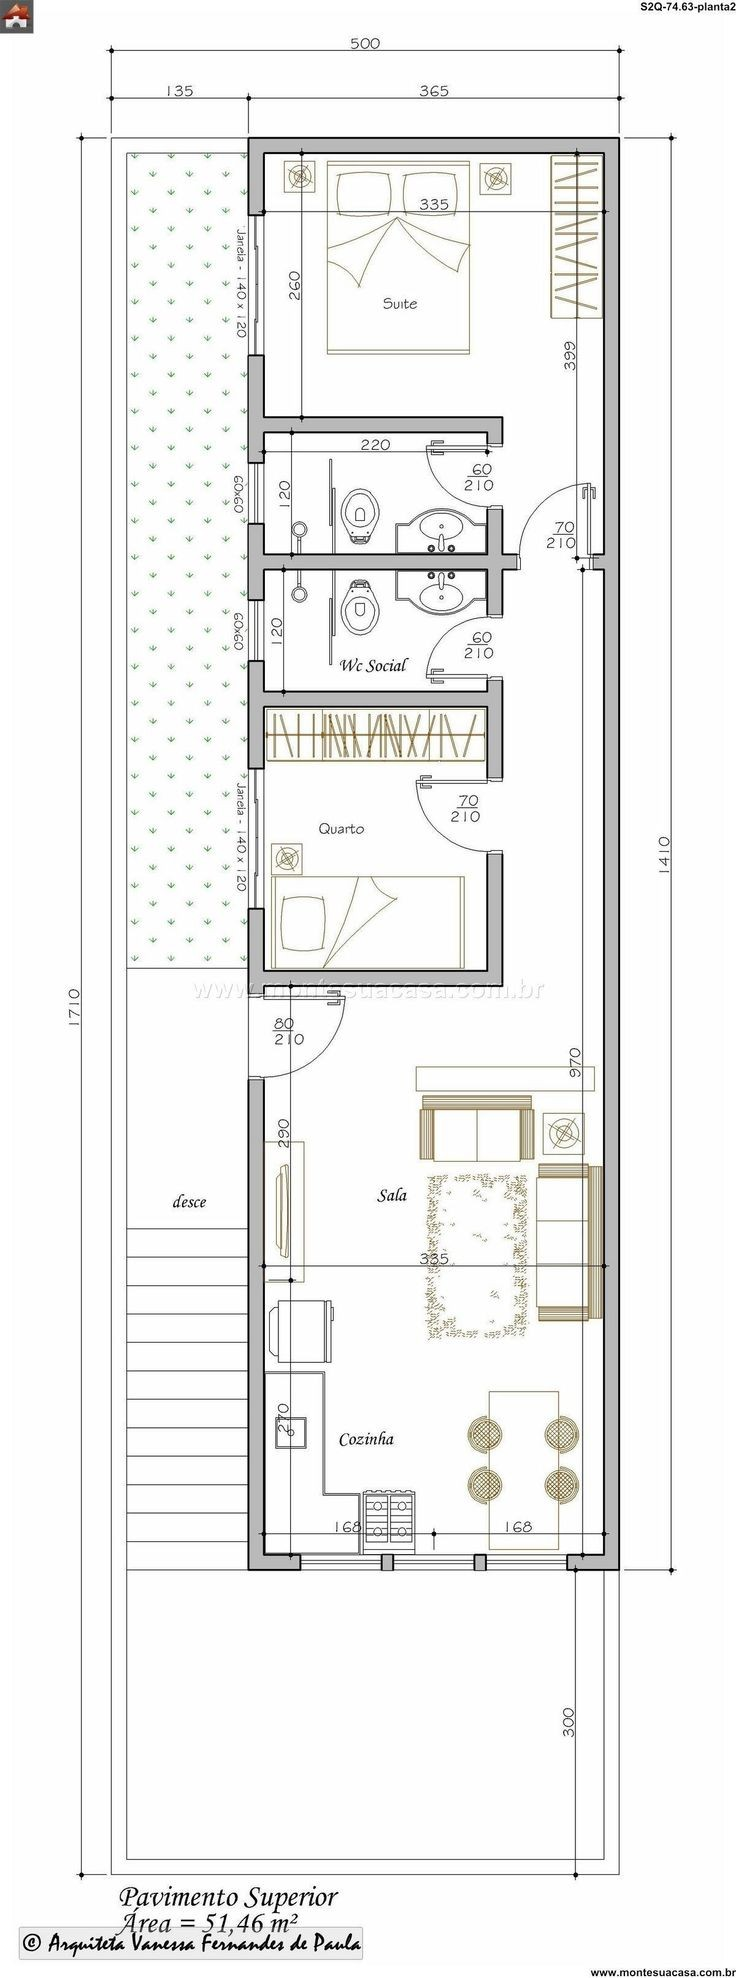door: (410, 775, 501, 858), (266, 1004, 359, 1086), (424, 439, 501, 505), (434, 626, 506, 682)
room: (269, 1009, 590, 1463), (271, 704, 487, 960), (283, 575, 504, 681), (275, 444, 484, 542)
wall: (598, 161, 631, 1574), (245, 1082, 273, 1576), (252, 134, 617, 167), (246, 963, 511, 993), (255, 405, 502, 433), (264, 549, 502, 575), (261, 686, 504, 709), (480, 851, 518, 997), (482, 684, 513, 781), (250, 664, 271, 777), (485, 511, 507, 614), (247, 358, 266, 463), (242, 907, 261, 1002), (245, 530, 268, 602)
window: (308, 1552, 562, 1576), (241, 206, 278, 351), (236, 768, 269, 899), (239, 595, 273, 658), (239, 467, 271, 524)
